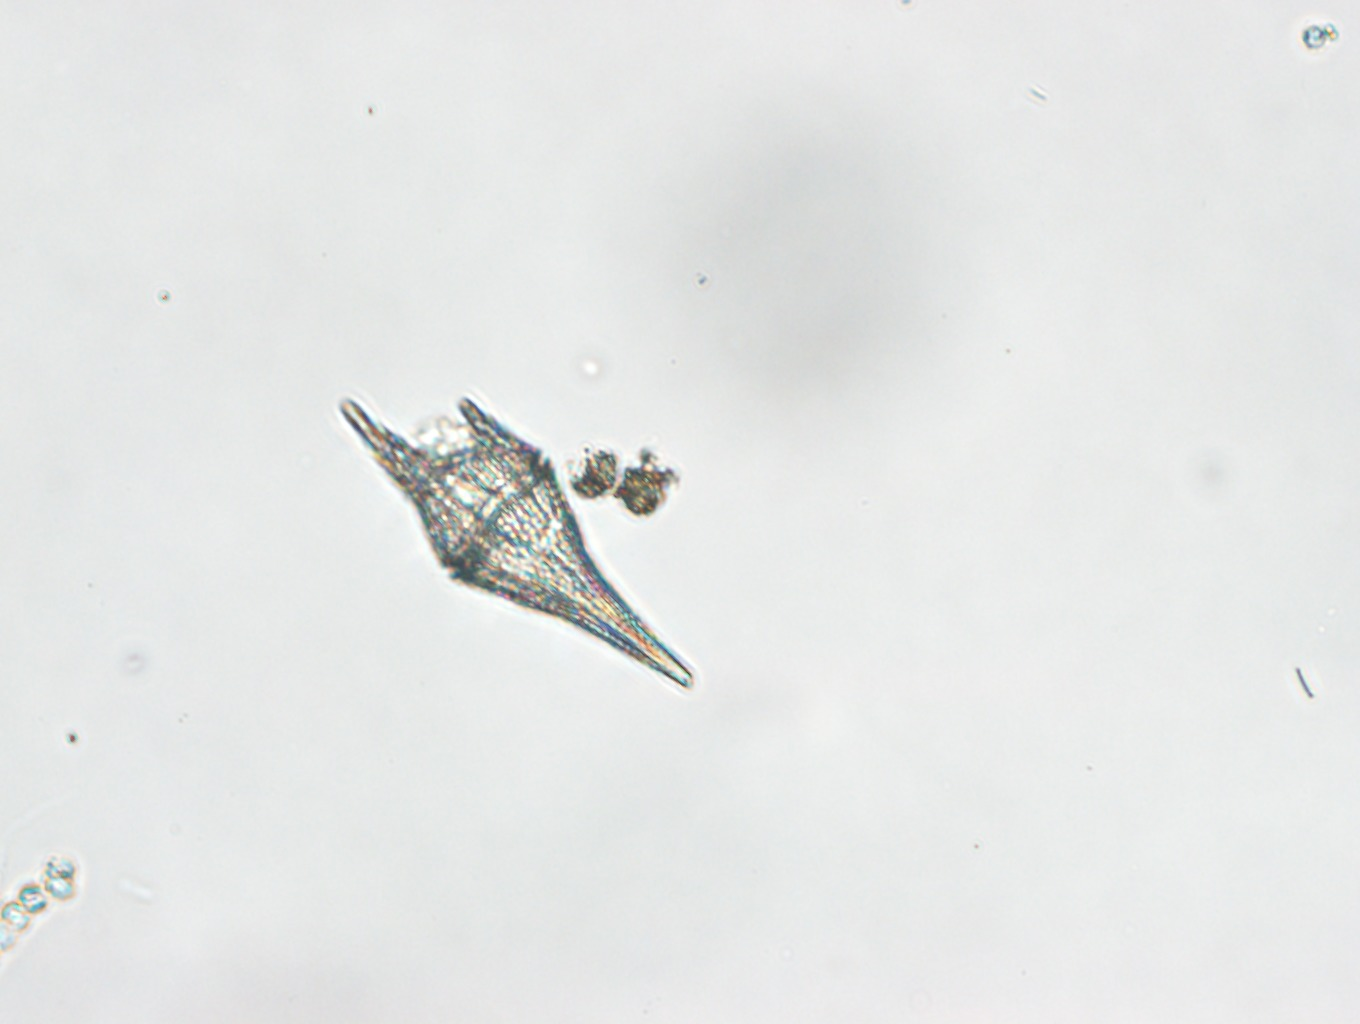ceratium furca: (332, 392, 695, 692)
